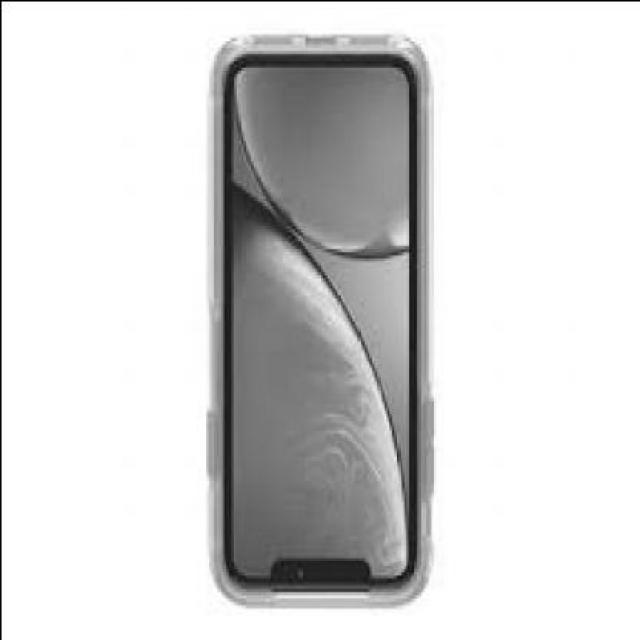fake: (207, 33, 430, 607)
